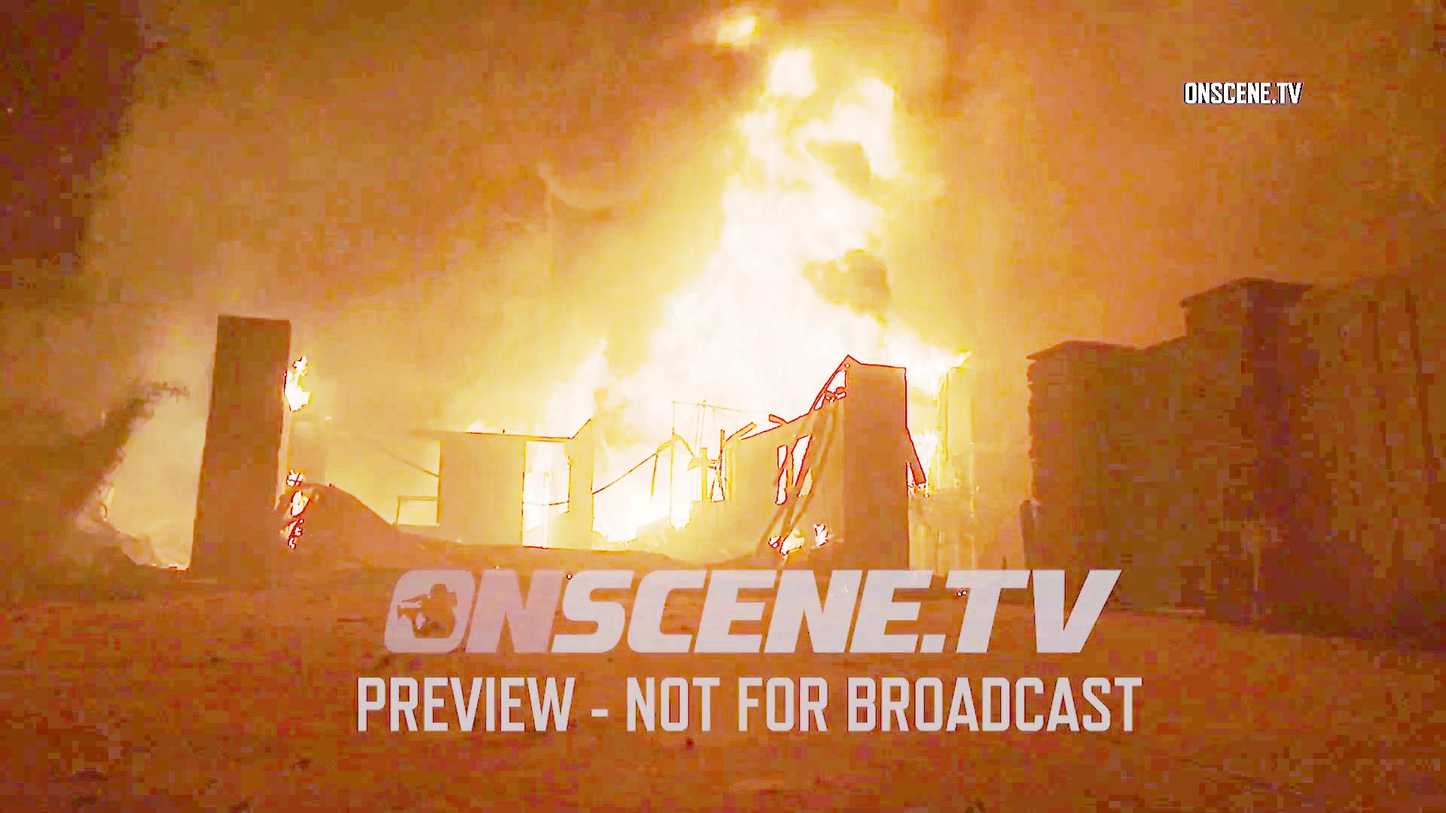fire: (701, 2, 953, 375), (571, 328, 704, 529)
